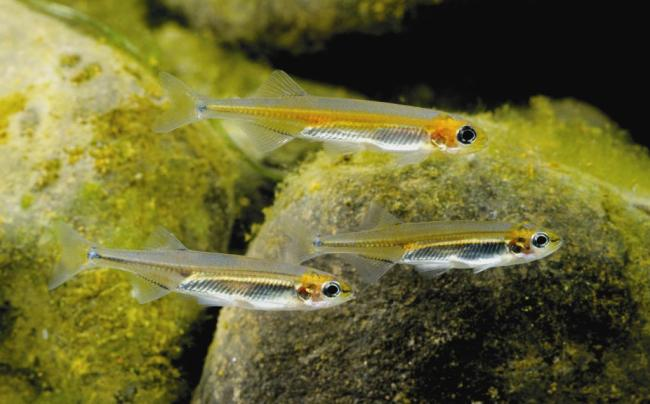fish: (156, 70, 488, 169), (44, 219, 354, 310), (276, 203, 564, 282)
